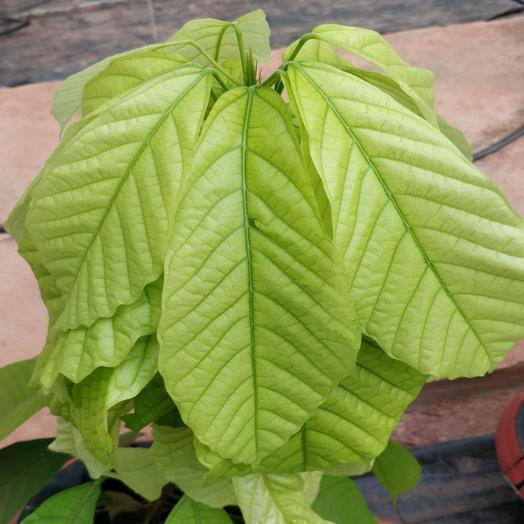Iron: (158, 88, 359, 464), (285, 61, 523, 376), (26, 64, 210, 326), (261, 341, 425, 471), (35, 278, 161, 390), (311, 24, 436, 123), (72, 336, 158, 464), (49, 419, 167, 500), (53, 46, 186, 117), (168, 9, 270, 79), (151, 426, 235, 505), (234, 472, 332, 523), (0, 358, 44, 440)
